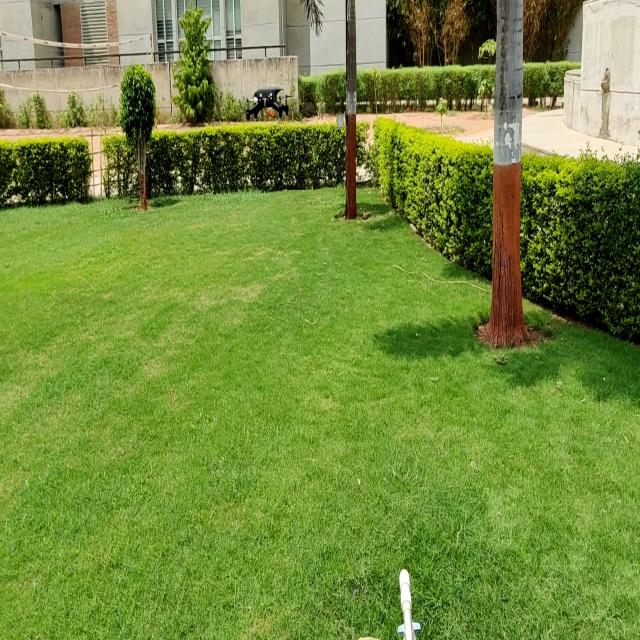drone: (236, 81, 291, 123)
